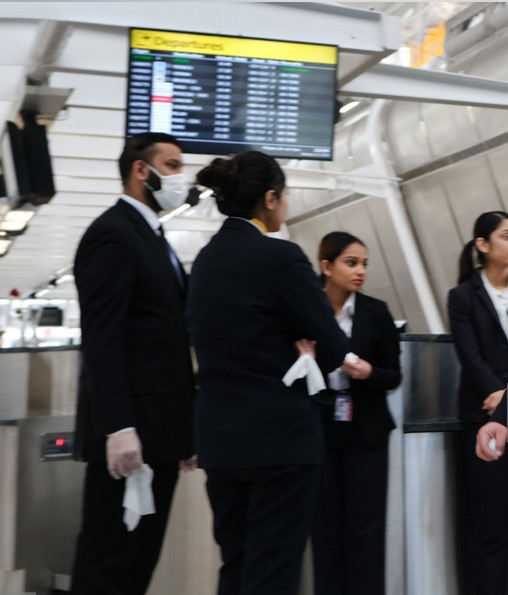face_no_mask: (217, 155, 290, 230), (319, 232, 372, 295), (478, 216, 507, 267)
face_with_mask: (120, 137, 194, 215)
